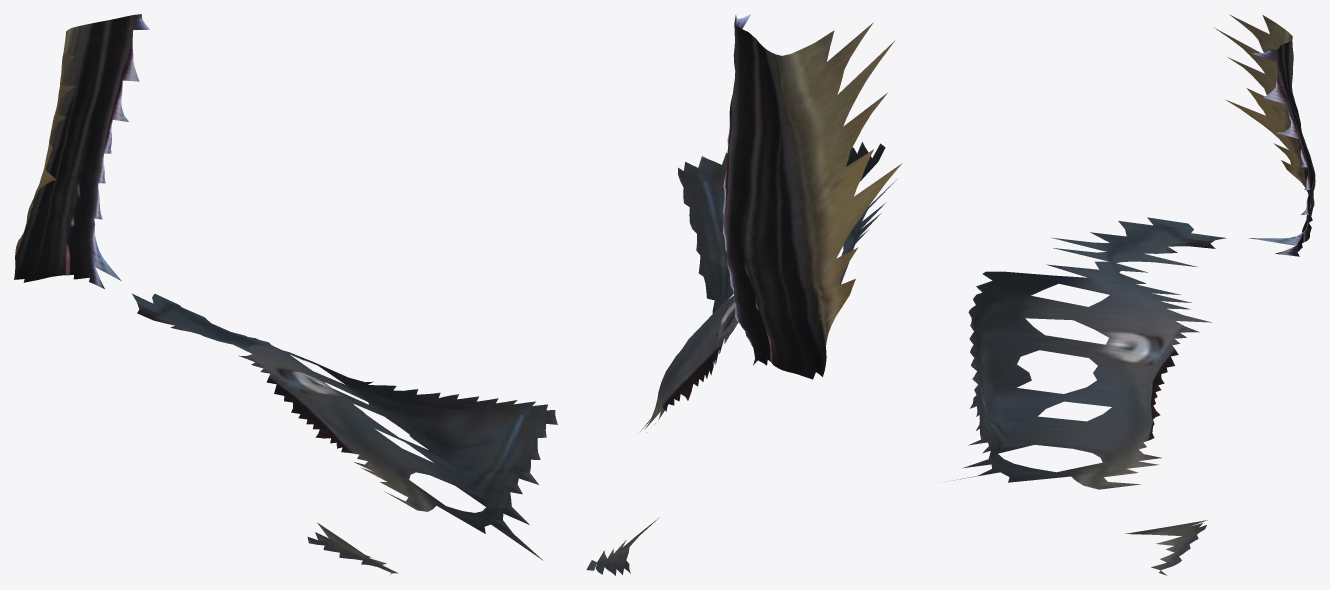
Rendered from observed-surface.glb.
3 renders of one model, left to right at view 1: azimuth 30°, elevation 25°; view 2: azimuth 150°, elevation 25°; view 3: azimuth 270°, elevation 25°, orthographic. The views are drawn at different scales.
Parts seen in each view (by area): view 1: geometry_0; view 2: geometry_0; view 3: geometry_0.
Part boxes in pixels (x1=…): geometry_0: x1=14, y1=14, x2=557, y2=574; geometry_0: x1=586, y1=14, x2=902, y2=575; geometry_0: x1=945, y1=14, x2=1315, y2=575.
Size of the model in its own units: 0.4515 by 0.7052 by 0.5383.
Materials: 1 (1 with a texture image).
